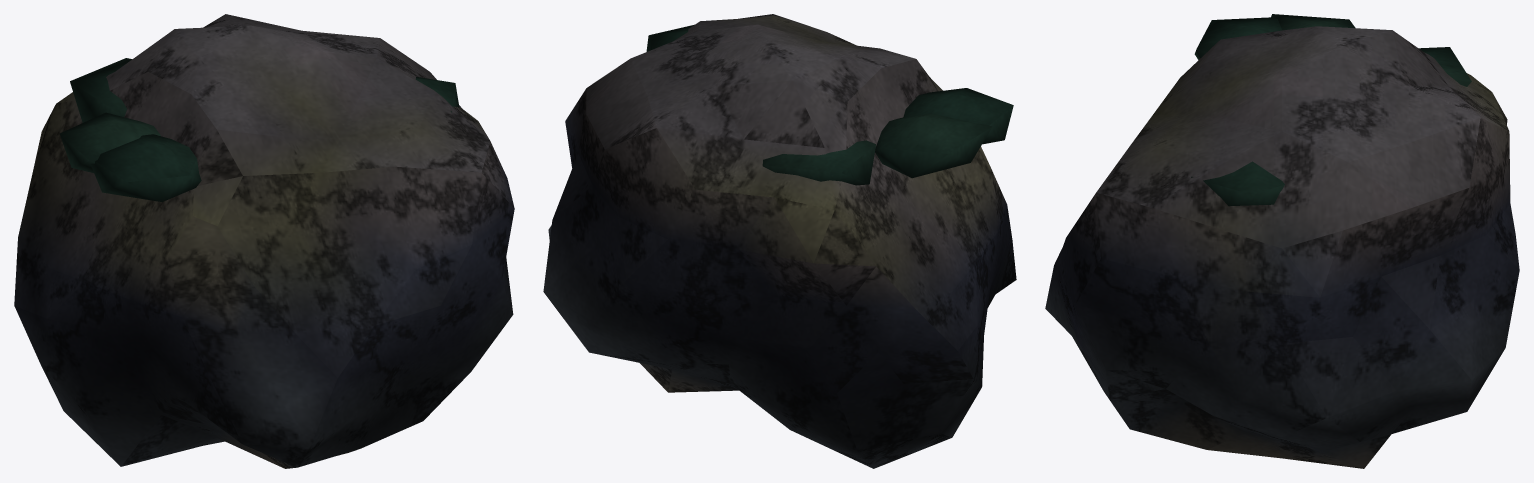
Rendered from boulder_b.glb.
3 renders of one model, left to right at view 1: azimuth 30°, elevation 25°; view 2: azimuth 150°, elevation 25°; view 3: azimuth 270°, elevation 25°, orthographic. The views are drawn at different scales.
Visible parts, largest first — view 1: boulder_b; view 2: boulder_b; view 3: boulder_b.
Boxes of the visible parts, x1,y1,x2,y2 form: boulder_b: (14, 14, 514, 468); boulder_b: (543, 14, 1016, 468); boulder_b: (1045, 14, 1519, 468).
Size of the model in its own units: 2.01 by 1.72 by 1.81.
Materials: 2 (2 with a texture image).
